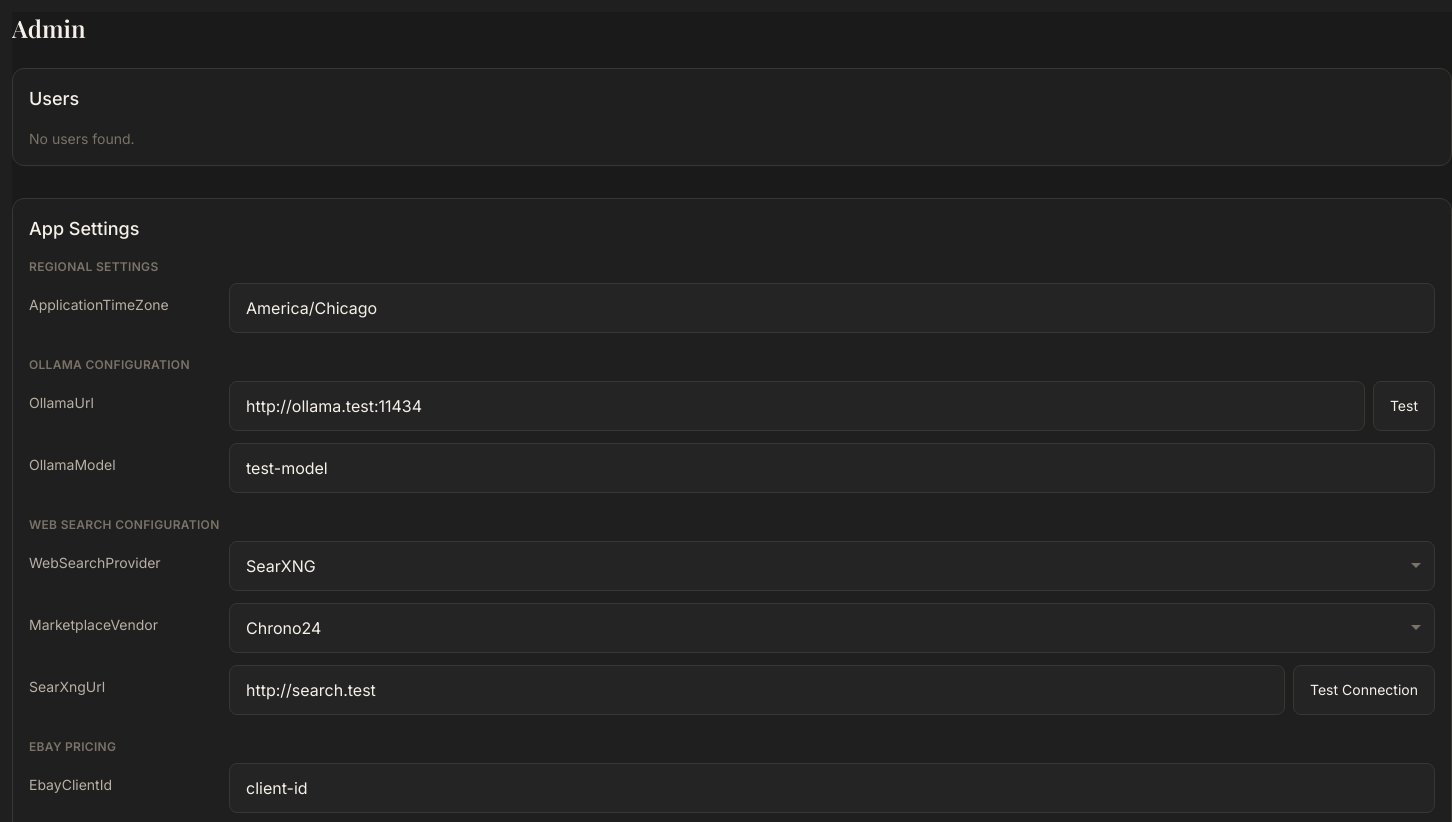
Scenario: Admin Ollama settings › tests the single editable OllamaUrl without a duplicate connection panel
This screenshot has width=1452, height=822.
Expected: the field next to "OllamaUrl" is shown, [229, 381, 1365, 431]
Click the button "Test" at (1404, 406), box [1373, 381, 1435, 431]
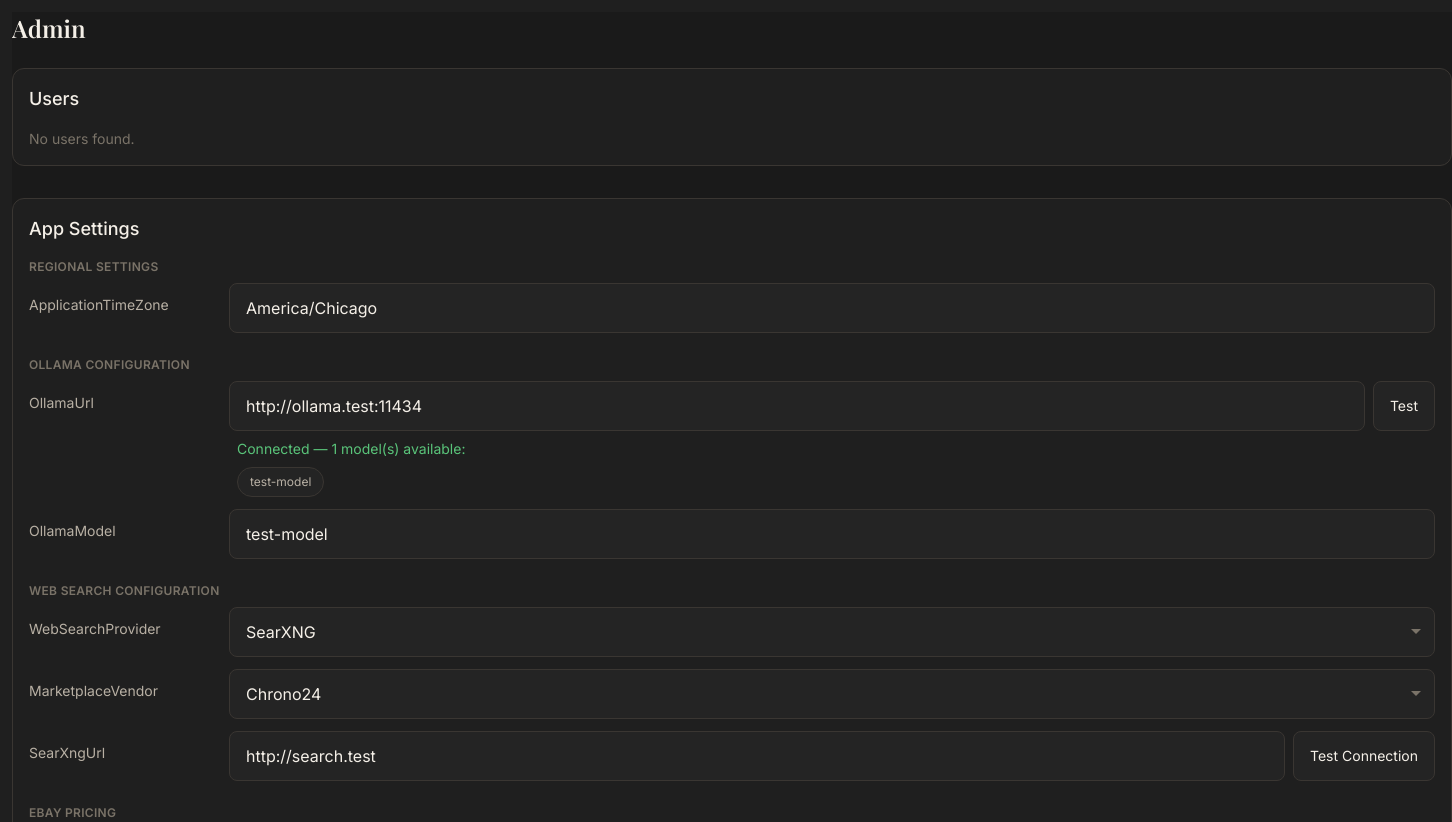
Now the text "Connected — 1 model(s) available" is shown, box [237, 440, 466, 457]
